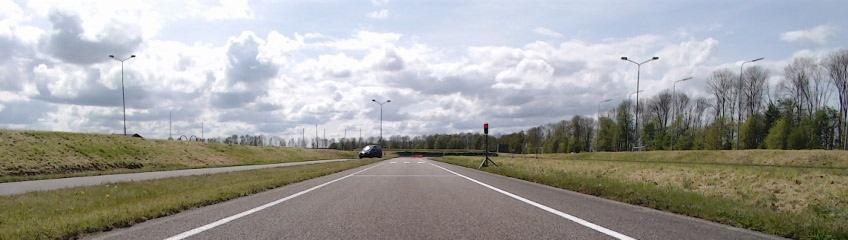TrafficLight-red: (484, 124, 488, 134)
